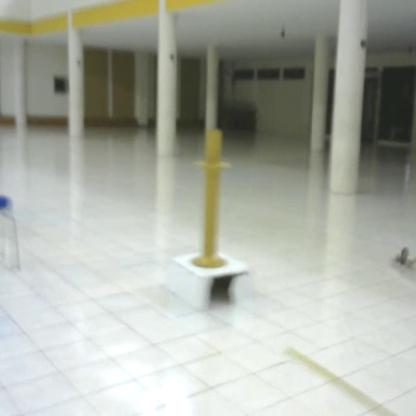pole: (184, 128, 234, 273)
